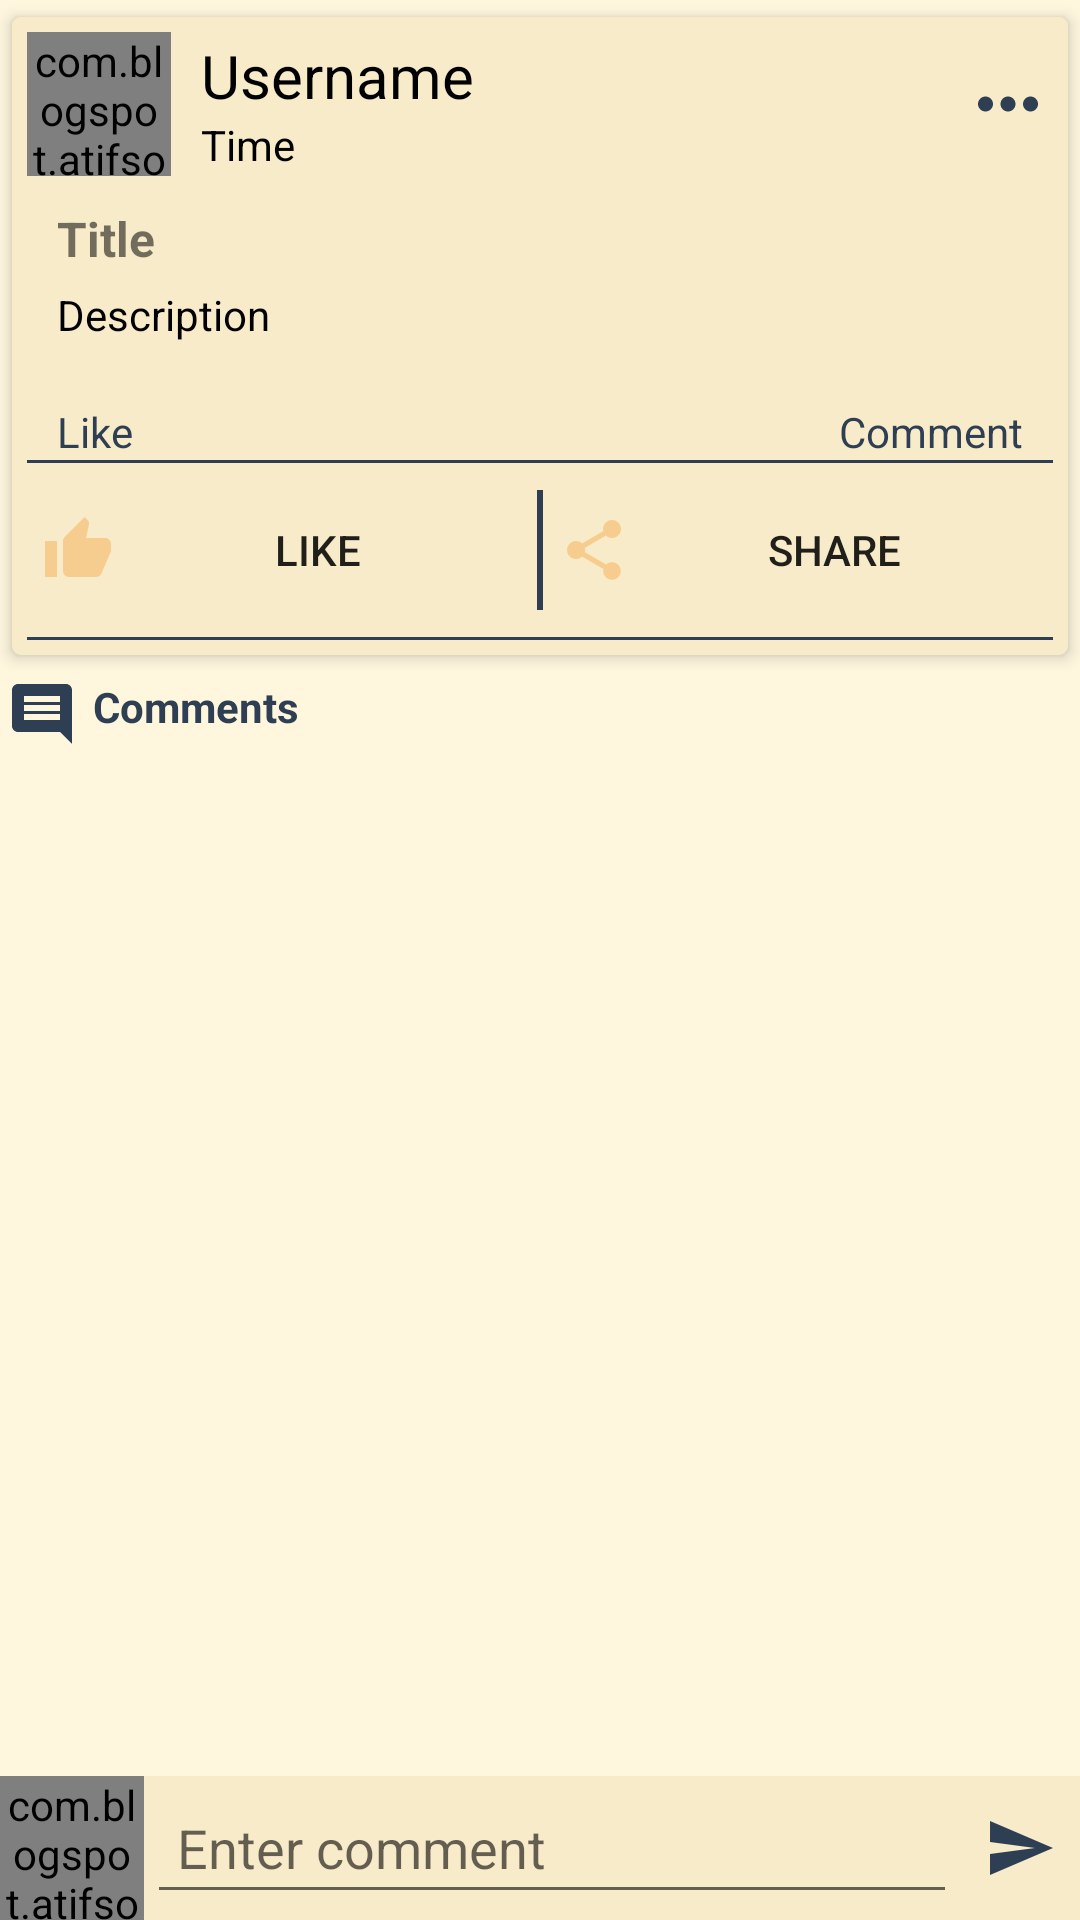

Point at icon controls on the screen. Image size 1080*1920, points as [x,y].
more: [1008,104]
send: [1021,1848]
